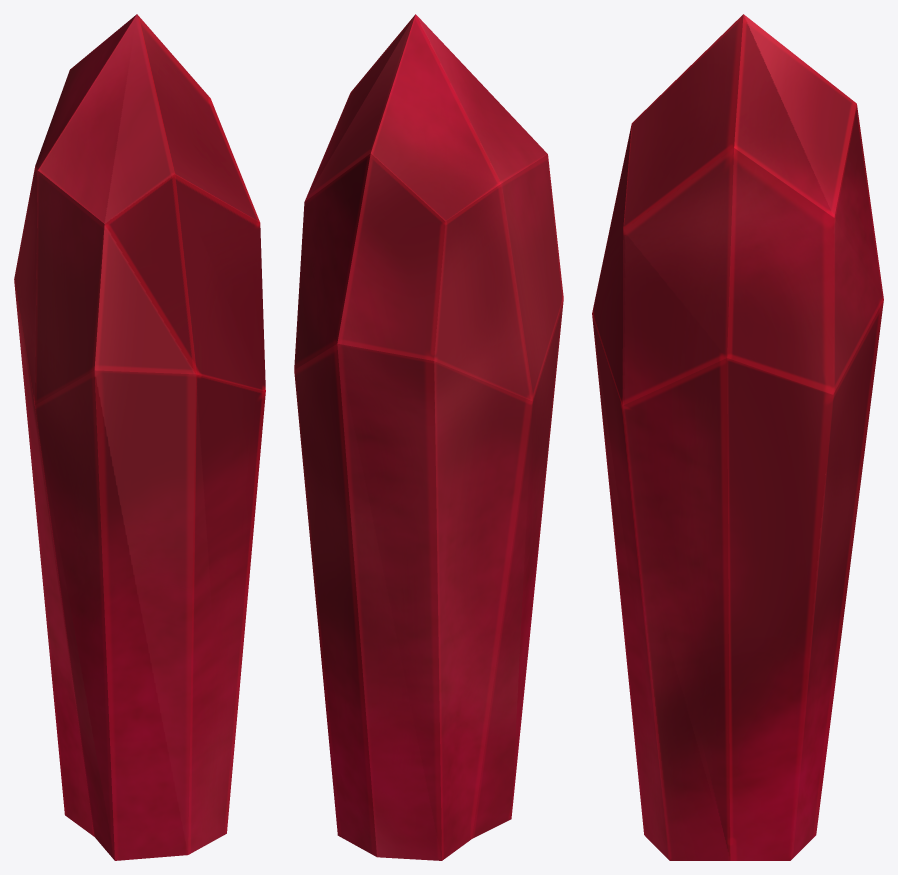
The model's file is cristal2.fbx.
3 views of the same model, side by side, from view 1: azimuth 30°, elevation 25°; view 2: azimuth 150°, elevation 25°; view 3: azimuth 270°, elevation 25° (orthographic).
Parts seen in each view (by area): view 1: Cube; view 2: Cube; view 3: Cube.
Part boxes in pixels (box(x1,y1,x2,y2)): Cube: box(14, 14, 265, 860); Cube: box(294, 14, 563, 860); Cube: box(592, 14, 883, 860).
Size of the model in its own units: 132 by 481 by 155.
Materials: 1 (1 with a texture image).
